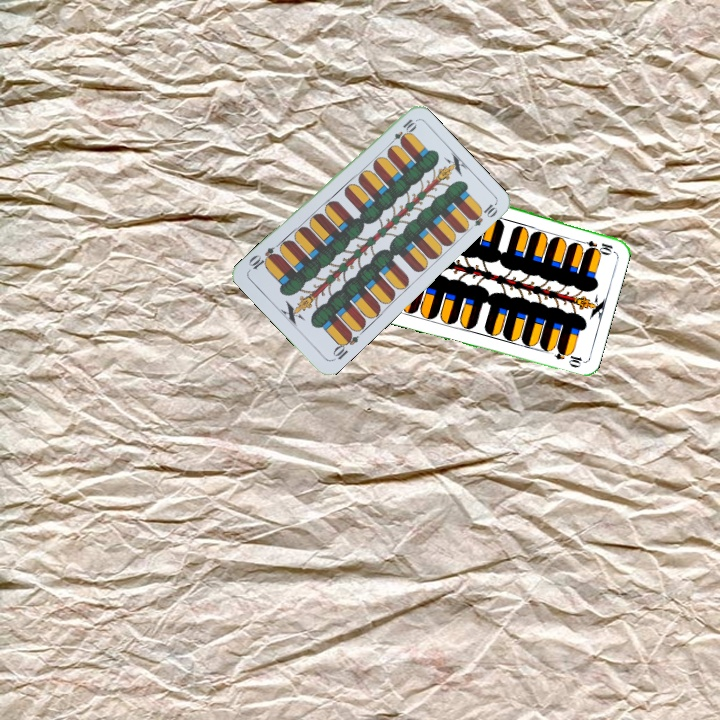E10: (328, 328, 361, 364), (385, 115, 418, 149), (575, 236, 616, 255)
